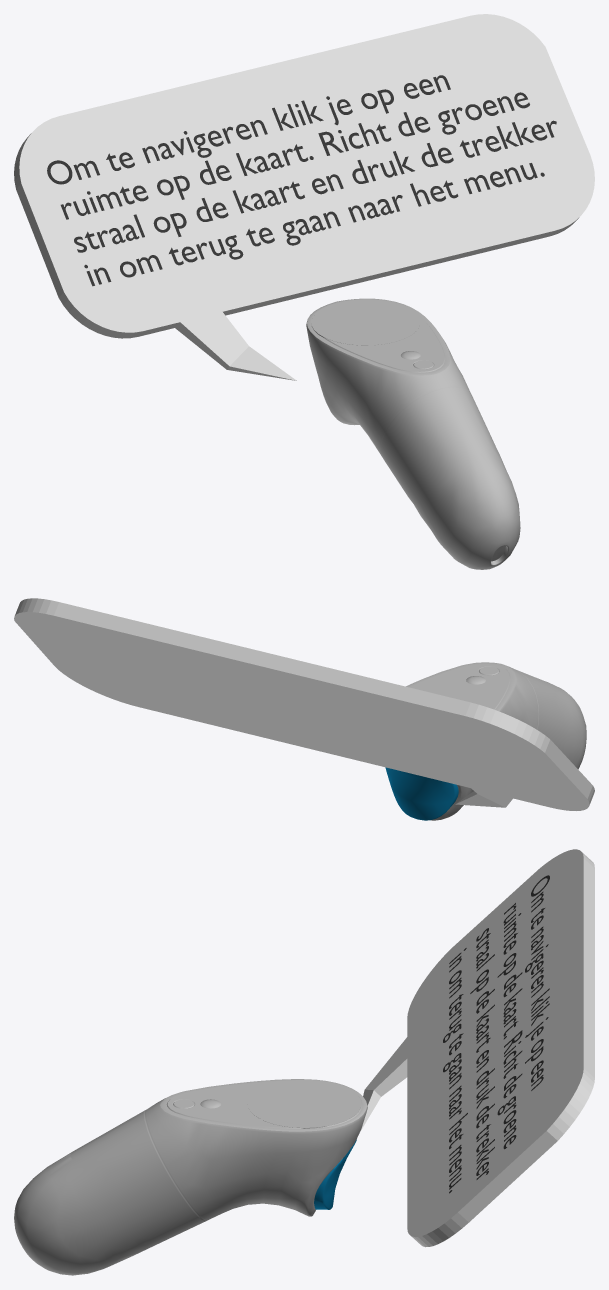
Rendered from REMOTE-tutorial-10-hold-trigger-end.fbx.
3 renders of one model, top to bottom at view 1: azimuth 30°, elevation 25°; view 2: azimuth 150°, elevation 25°; view 3: azimuth 270°, elevation 25°, orthographic. The views are drawn at different scales.
Visible parts, largest first — view 1: Curve, Circle, Text; view 2: Curve, Circle; view 3: Curve, Circle, Text.
Boxes of the visible parts, left/top/right/bottom form: Curve: left=14, top=14, right=594, bottom=380; Circle: left=306, top=298, right=520, bottom=569; Text: left=47, top=75, right=556, bottom=286; Curve: left=14, top=598, right=594, bottom=810; Circle: left=385, top=662, right=586, bottom=820; Curve: left=360, top=849, right=594, bottom=1247; Circle: left=14, top=1079, right=367, bottom=1275; Text: left=443, top=875, right=549, bottom=1193.
Bounding box in the file's own units: 426 × 241 × 388.
